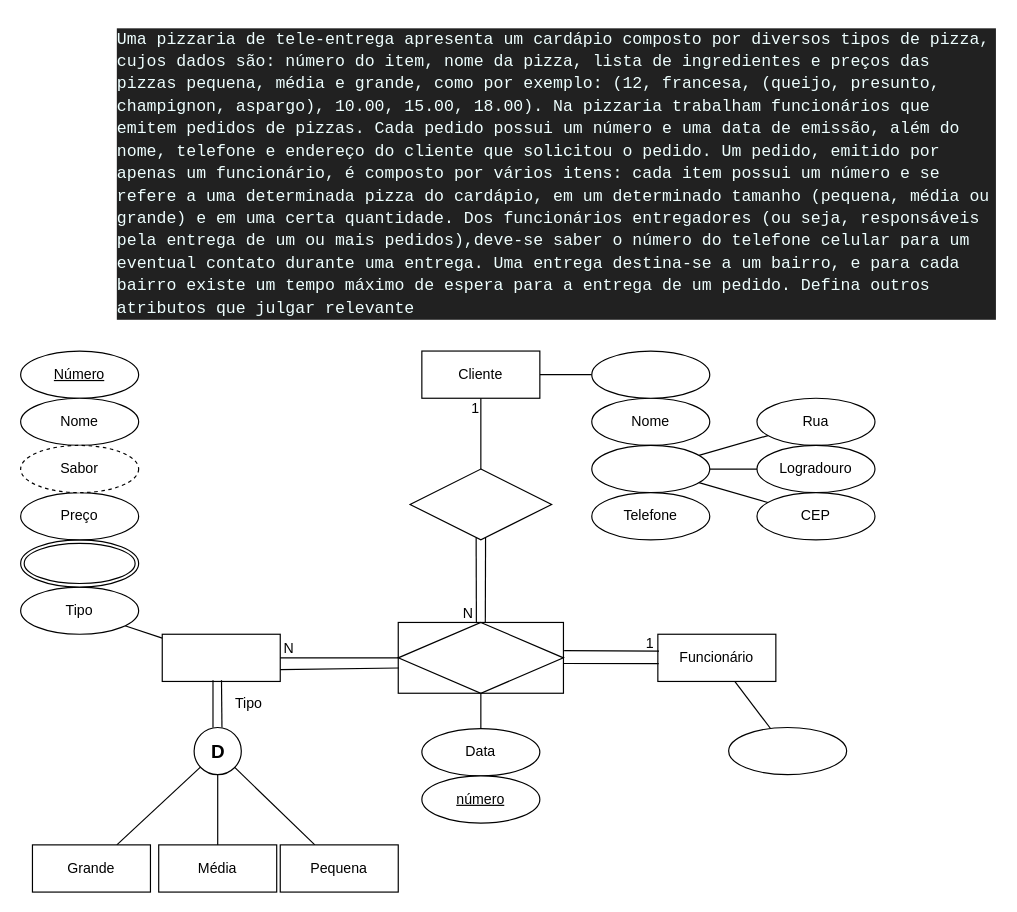
This 1017x912 diagram has some shape labels left out. Here are the shapes that lost their labels. From the top down, the box of each, then its label:
(591, 350, 710, 398): CPF
(591, 444, 710, 493): Endereço
(409, 468, 552, 540): Inclui
(19, 539, 139, 587): Ingredientes
(161, 633, 280, 681): Pizza
(397, 621, 563, 693): Pedido
(727, 726, 847, 775): NúmeroCrachá
